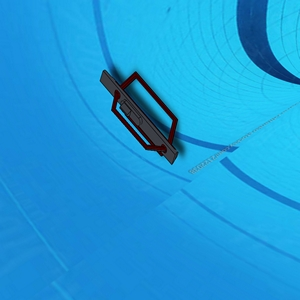submarine: (98, 71, 182, 164)
